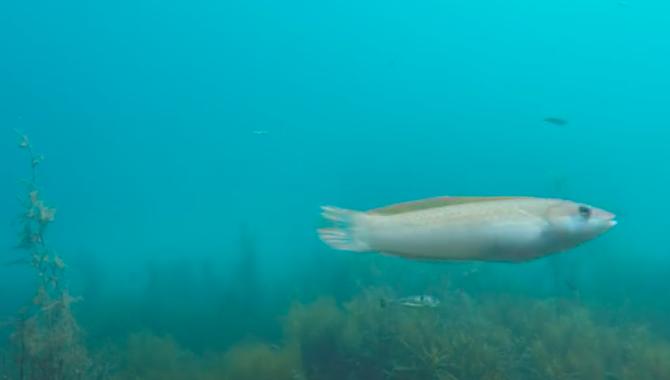kisu: (303, 174, 618, 264)
